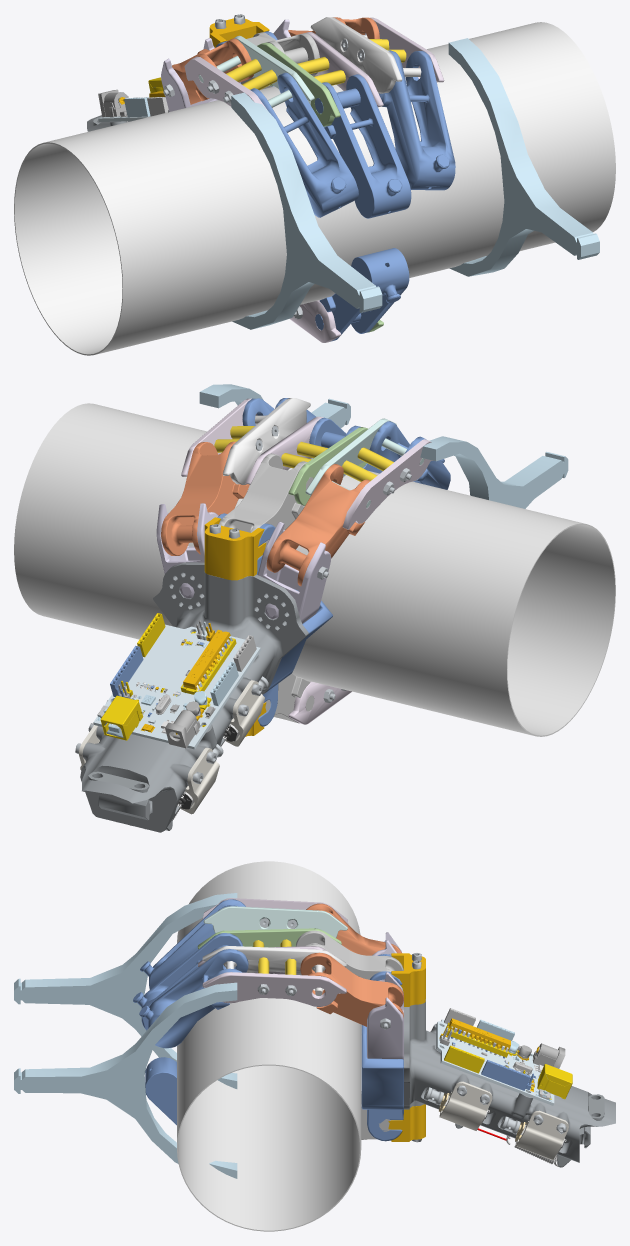
Rendered from claw.glb.
3 renders of one model, top to bottom at view 1: azimuth 30°, elevation 25°; view 2: azimuth 150°, elevation 25°; view 3: azimuth 270°, elevation 25°, orthographic. The views are drawn at different scales.
Parts seen in each view (by area): view 1: 603 cap on pad_6, PADS001, Common 2nd Flange, 1st Phalange Angled, Tendon Pin, 2nd Phalange L, 2nd Phalange Centre, Knuckle L, Centre Digit Support, Hex socket countersunk head screw M3x0.5 x 30; view 2: 603 cap on pad_6, Leg, 1st Phalange Angled, PADS001, Common 2nd Flange, Centre Digit Support, Knuckle L, dip28, Motor Cover R, Tendon Pin, 2nd Phalange L, Hex socket countersunk head screw M3x0.5 x 30 (+1 smaller); view 3: 603 cap on pad_6, PADS001, Leg, 1st Phalange Angled, Common 2nd Flange, Motor Cover R, Centre Digit Support, 2nd Phalange L, Knuckle L, dip28, 2nd Phalange Centre, Hex socket countersunk head screw M3x0.5 x 30 (+1 smaller).
Boxes of the visible parts, x1,y1,x2,y2 form: 603 cap on pad_6: [14, 17, 615, 355]; PADS001: [124, 38, 599, 329]; Common 2nd Flange: [184, 17, 444, 342]; 1st Phalange Angled: [172, 17, 379, 104]; Tendon Pin: [226, 39, 406, 90]; 2nd Phalange L: [198, 35, 314, 107]; 2nd Phalange Centre: [257, 42, 383, 332]; Knuckle L: [161, 19, 317, 111]; Centre Digit Support: [119, 18, 269, 104]; Hex socket countersunk head screw M3x0.5 x 30: [163, 14, 364, 319]; 603 cap on pad_6: [14, 398, 615, 829]; Leg: [80, 562, 308, 832]; 1st Phalange Angled: [161, 441, 370, 586]; PADS001: [96, 384, 568, 737]; Common 2nd Flange: [181, 398, 432, 724]; Centre Digit Support: [141, 517, 266, 736]; Knuckle L: [156, 503, 331, 623]; dip28: [100, 613, 236, 740]; Motor Cover R: [79, 680, 264, 814]; Tendon Pin: [214, 426, 393, 481]; 2nd Phalange L: [305, 418, 424, 508]; Hex socket countersunk head screw M3x0.5 x 30: [75, 426, 411, 783]; 603 cap on pad_6: [133, 861, 565, 1231]; PADS001: [14, 893, 551, 1178]; Leg: [404, 999, 615, 1167]; 1st Phalange Angled: [300, 903, 403, 1026]; Common 2nd Flange: [197, 898, 348, 1006]; Motor Cover R: [439, 1081, 568, 1159]; Centre Digit Support: [388, 953, 539, 1141]; 2nd Phalange L: [203, 906, 347, 937]; Knuckle L: [367, 932, 403, 1059]; dip28: [444, 1022, 572, 1099]; 2nd Phalange Centre: [197, 928, 341, 948]; Hex socket countersunk head screw M3x0.5 x 30: [257, 918, 566, 1142].
Size of the model in its own units: 0.2607 by 0.1392 by 0.3264.
